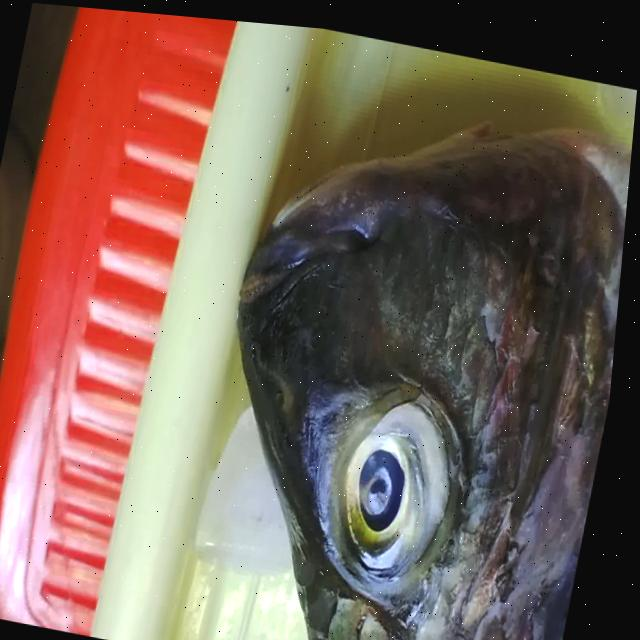Fresh: (290, 328, 503, 640)
